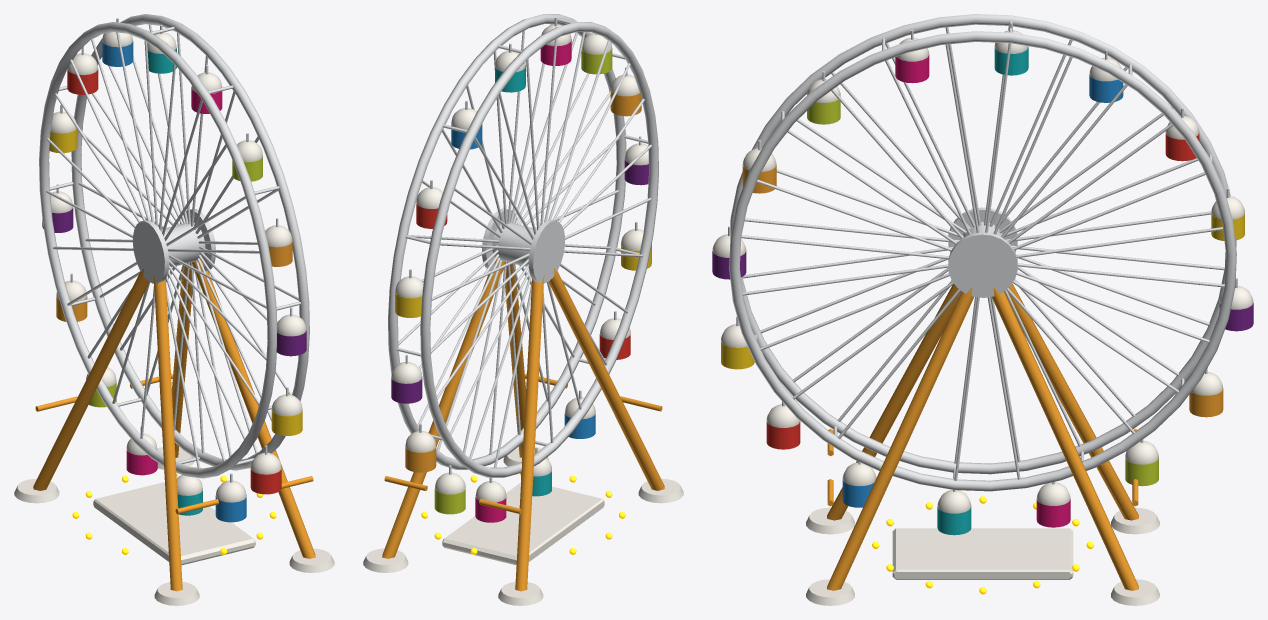
The model's file is ferris-wheel.glb.
3 renders of one model, left to right at view 1: azimuth 30°, elevation 25°; view 2: azimuth 150°, elevation 25°; view 3: azimuth 270°, elevation 25°, orthographic. The views are drawn at different scales.
Parts seen in each view (by area): view 1: wheel_rim_0, wheel_rim_1, wheel_boarding_deck, wheel_leg_2, wheel_leg_3, wheel_leg_0, wheel_hub_flange_0, wheel_leg_1, wheel_hub_barrel, wheel_footing_2, wheel_footing_0, wheel_footing_3 (+44 smaller); view 2: wheel_rim_0, wheel_rim_1, wheel_boarding_deck, wheel_leg_3, wheel_leg_2, wheel_leg_1, wheel_hub_flange_0, wheel_leg_0, wheel_hub_barrel, wheel_footing_3, wheel_footing_1, wheel_footing_2 (+46 smaller); view 3: wheel_rim_1, wheel_rim_0, wheel_boarding_deck, wheel_leg_0, wheel_leg_1, wheel_hub_flange_1, wheel_leg_3, wheel_leg_2, wheel_footing_0, wheel_footing_1, wheel_footing_2, wheel_footing_3 (+28 smaller).
Boxes of the visible parts, x1,y1,x2,y2 form: wheel_rim_0: (39,22,277,478); wheel_rim_1: (71,14,309,470); wheel_boarding_deck: (93,482,255,565); wheel_leg_2: (153,275,182,591); wheel_leg_3: (33,268,149,490); wheel_leg_0: (191,259,315,558); wheel_hub_flange_0: (133,220,169,283); wheel_leg_1: (172,262,194,457); wheel_hub_barrel: (161,222,205,267); wheel_footing_2: (154,582,199,605); wheel_footing_0: (289,548,334,572); wheel_footing_3: (14,479,59,503); wheel_rim_0: (420,22,658,477); wheel_rim_1: (388,14,626,469); wheel_boarding_deck: (442,482,604,565); wheel_leg_3: (515,275,544,591); wheel_leg_2: (548,268,664,490); wheel_leg_1: (382,259,506,558); wheel_hub_flange_0: (528,219,564,283); wheel_leg_0: (503,262,525,457); wheel_hub_barrel: (492,222,536,266); wheel_footing_3: (498,581,543,605); wheel_footing_1: (363,548,408,572); wheel_footing_2: (638,478,683,503); wheel_rim_1: (729,31,1236,491); wheel_rim_0: (730,14,1236,474); wheel_boarding_deck: (892,528,1073,579); wheel_leg_0: (827,287,973,590); wheel_leg_1: (992,287,1138,590); wheel_hub_flange_1: (948,232,1017,297); wheel_leg_3: (1008,283,1138,520); wheel_leg_2: (827,284,960,520); wheel_footing_0: (806,579,854,605); wheel_footing_1: (1111,579,1159,605); wheel_footing_2: (806,507,854,534); wheel_footing_3: (1111,507,1159,534).
Bounding box in the file's own units: 19.67 × 52.78 × 47.92.
